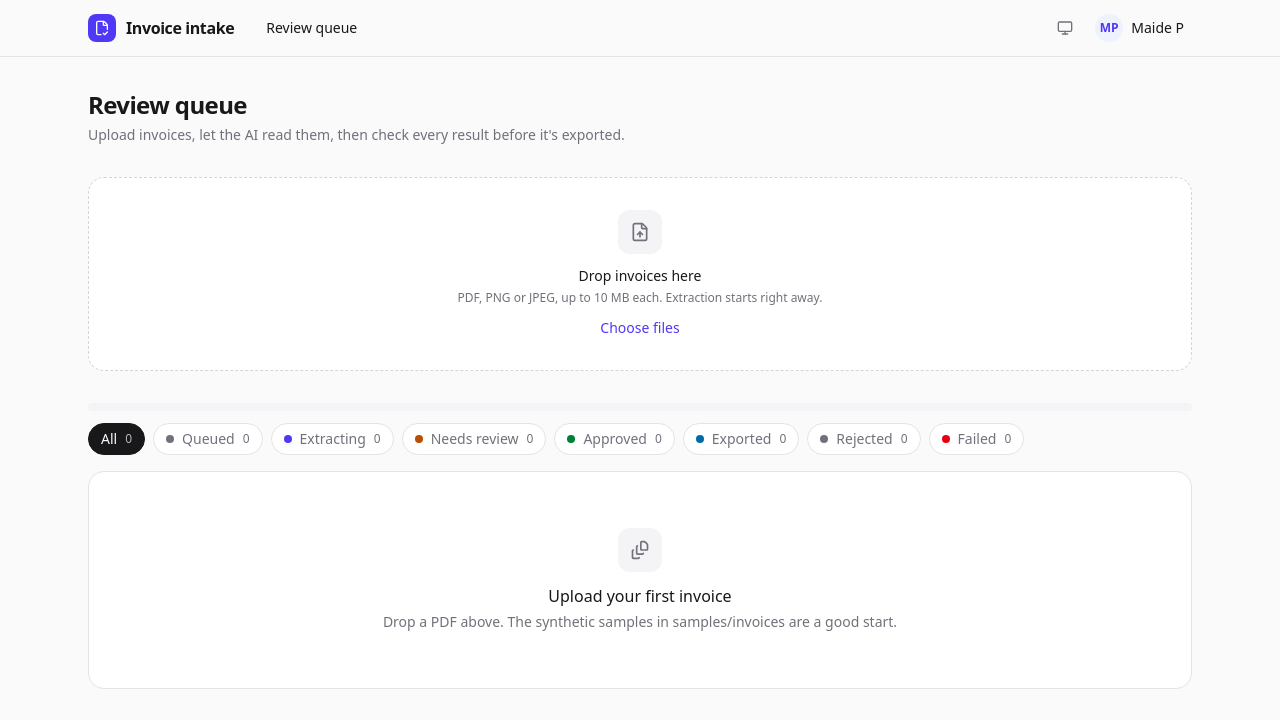
Scenario: app shell › cycles the theme between system, light and dark
What coordinates should you click on to do the following:
click the button named "Theme: follows your system"
I would click on:
 (1065, 28)
Its box is [1047,10,1083,46].
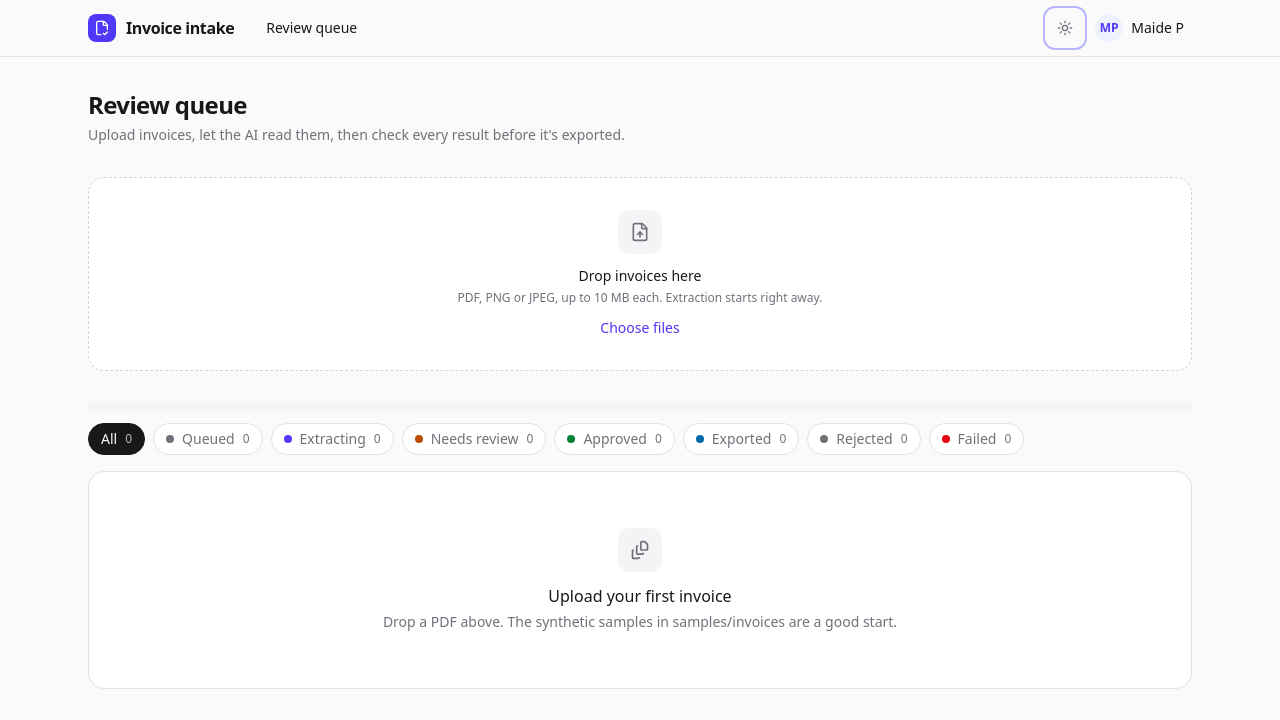
What coordinates should you click on to do the following:
click the button named "Theme: light"
I would click on:
 (1065, 28)
Its box is [1047,10,1083,46].
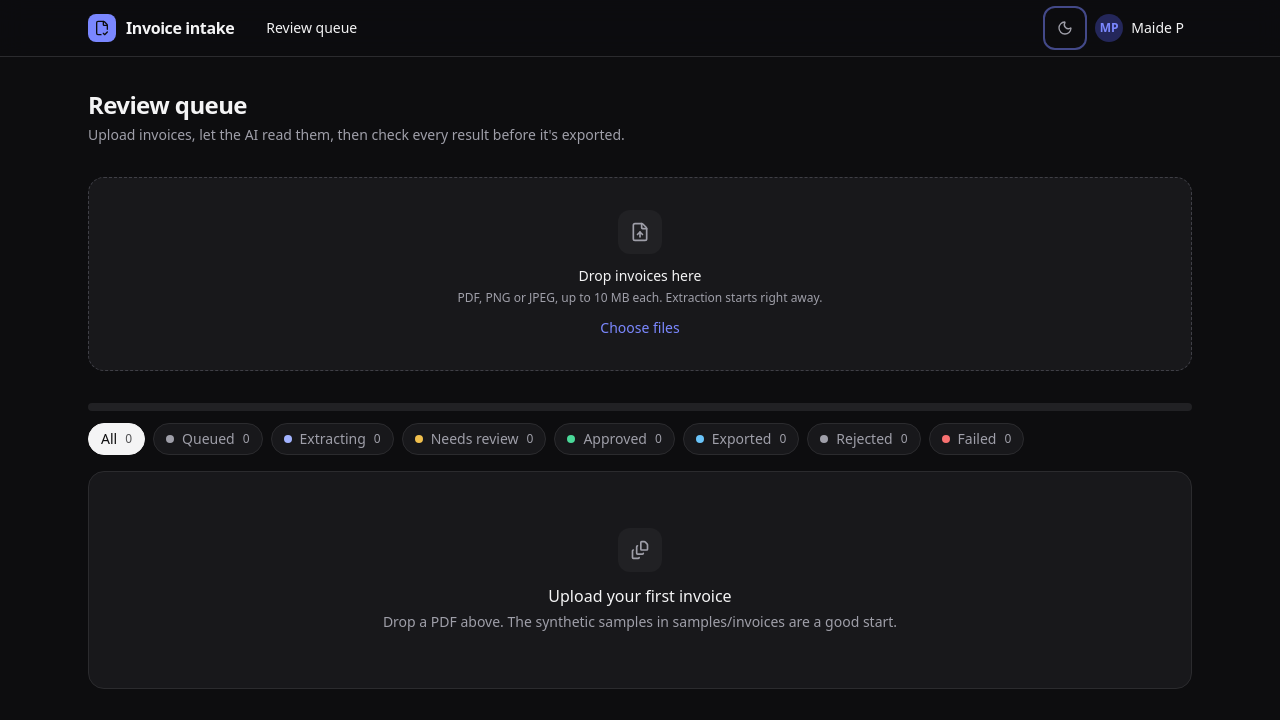
Now the button named "Theme: dark" is shown, box [1047,10,1083,46]
